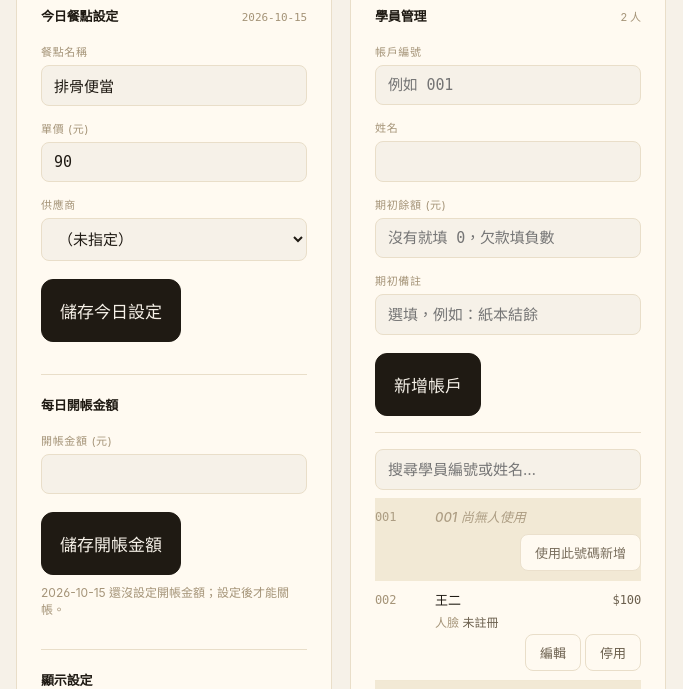
AdminScreen - 學員編號排序、缺號列與改編號 (U3 #7, #9) › 修改編號時理由為必填（1–500 字）
The image size is (683, 689).
Click the button with aria-label "編輯 002" at (553, 652), box [525,634,581,671]
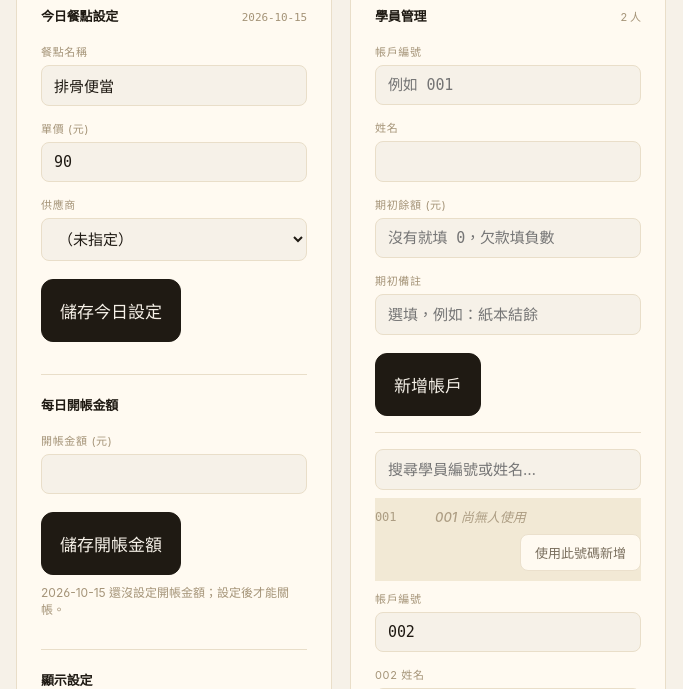
Replace the text in the field labelled "帳戶編號" below "001 尚無人使用" with "008" at (508, 632), box [375,612,641,652]
(page scrolled)
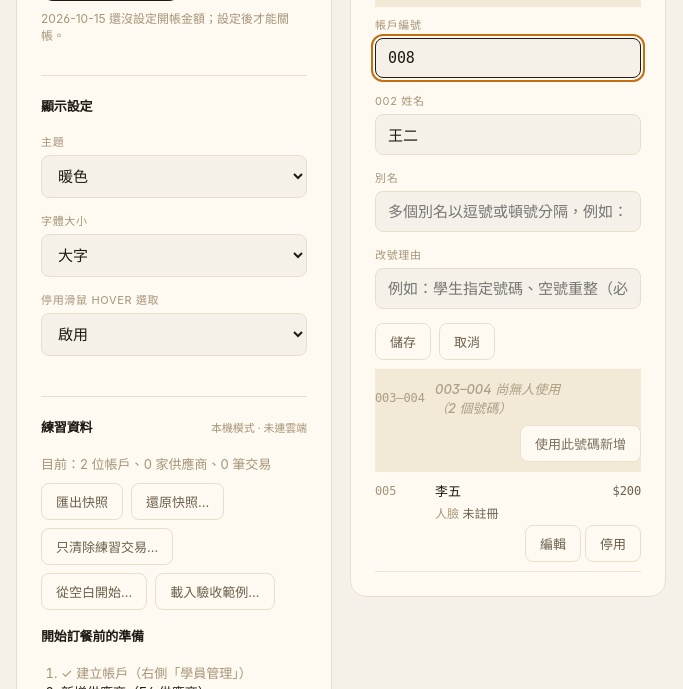
// 未填理由直接儲存
Click the button "儲存" at (403, 342), box [375,323,431,360]
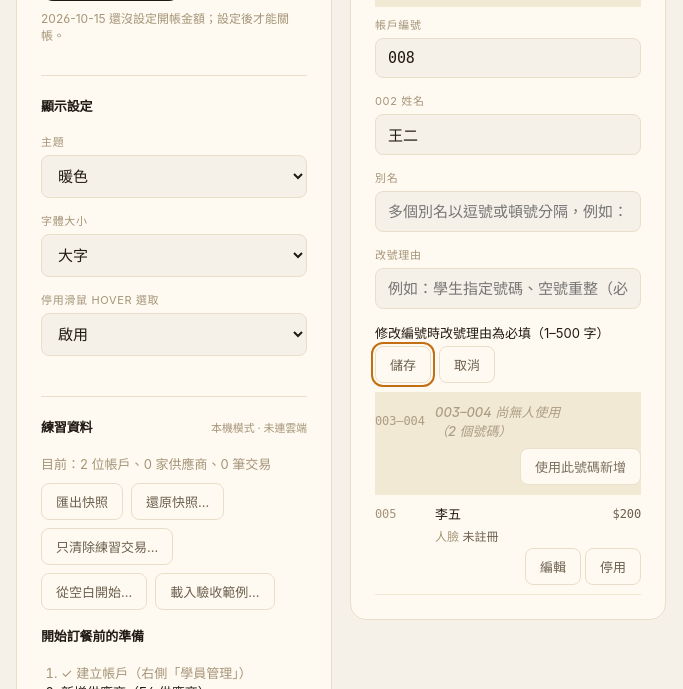
expect the text "修改編號時改號理由為必填（1–500 字）" is shown: met, box [375,323,641,342]
